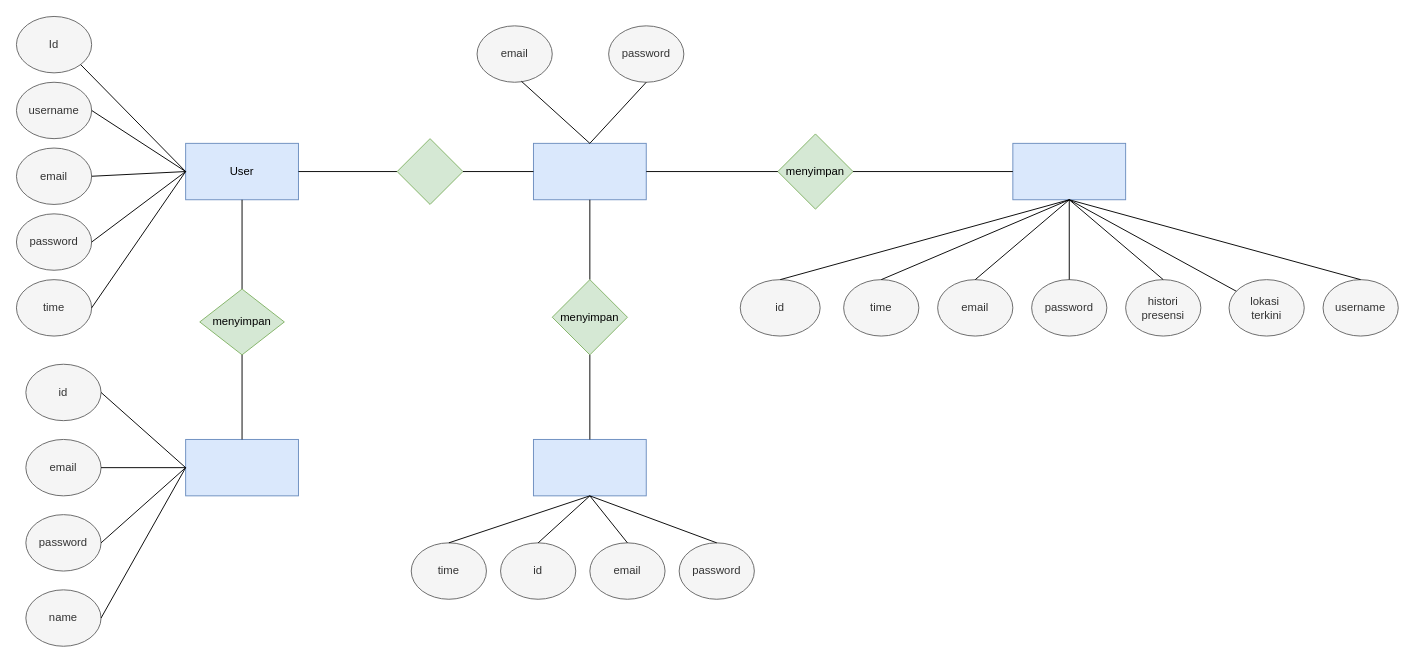
Some shapes in this 1415 by 663 pixel diagram are drawn without their labels. The shapes that lost their labels are listed below. From the top down, each one's centre as x and y in pixels, then its label:
the point at 429,171: Validasi
the point at 589,171: Login
the point at 1069,171: keluar
the point at 241,467: Signup
the point at 589,467: masuk
